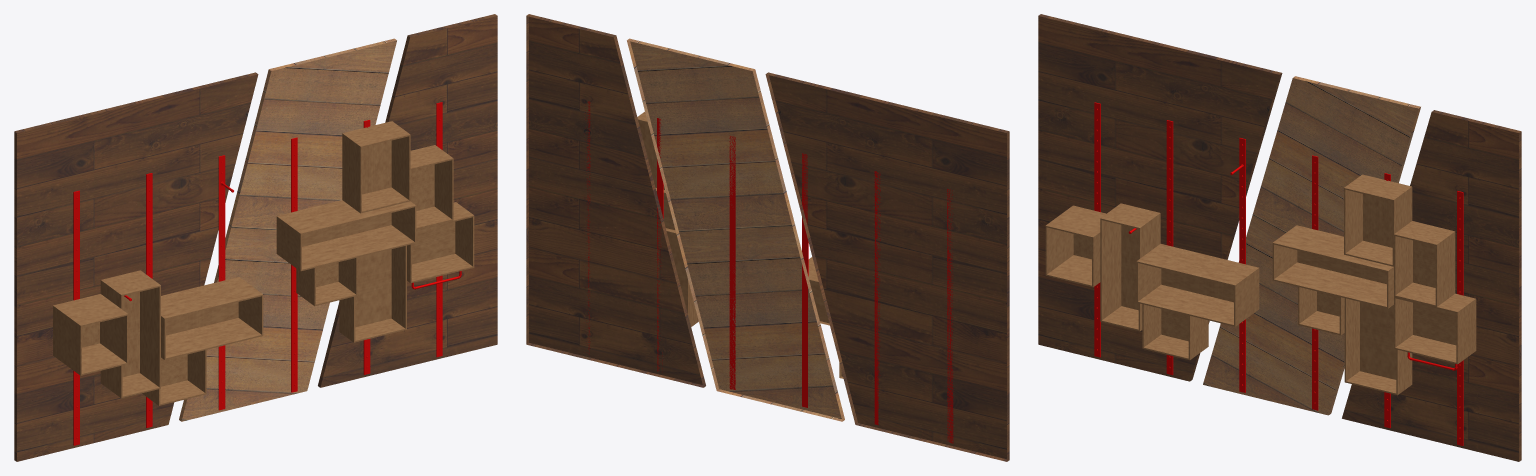
The model's file is ShapeDesign.fbx.
The picture shows the model from 3 angles, left to right: view 1: azimuth 30°, elevation 25°; view 2: azimuth 150°, elevation 25°; view 3: azimuth 330°, elevation 25°; orthographic projection.
Parts seen in each view (by area): view 1: ShapeDesign; view 2: ShapeDesign; view 3: ShapeDesign.
Part boxes in pixels (bbox=[...]): ShapeDesign: bbox=[14, 14, 497, 461]; ShapeDesign: bbox=[526, 14, 1009, 461]; ShapeDesign: bbox=[1038, 14, 1521, 461].
Size of the model in its own units: 605 by 395 by 67.24.
